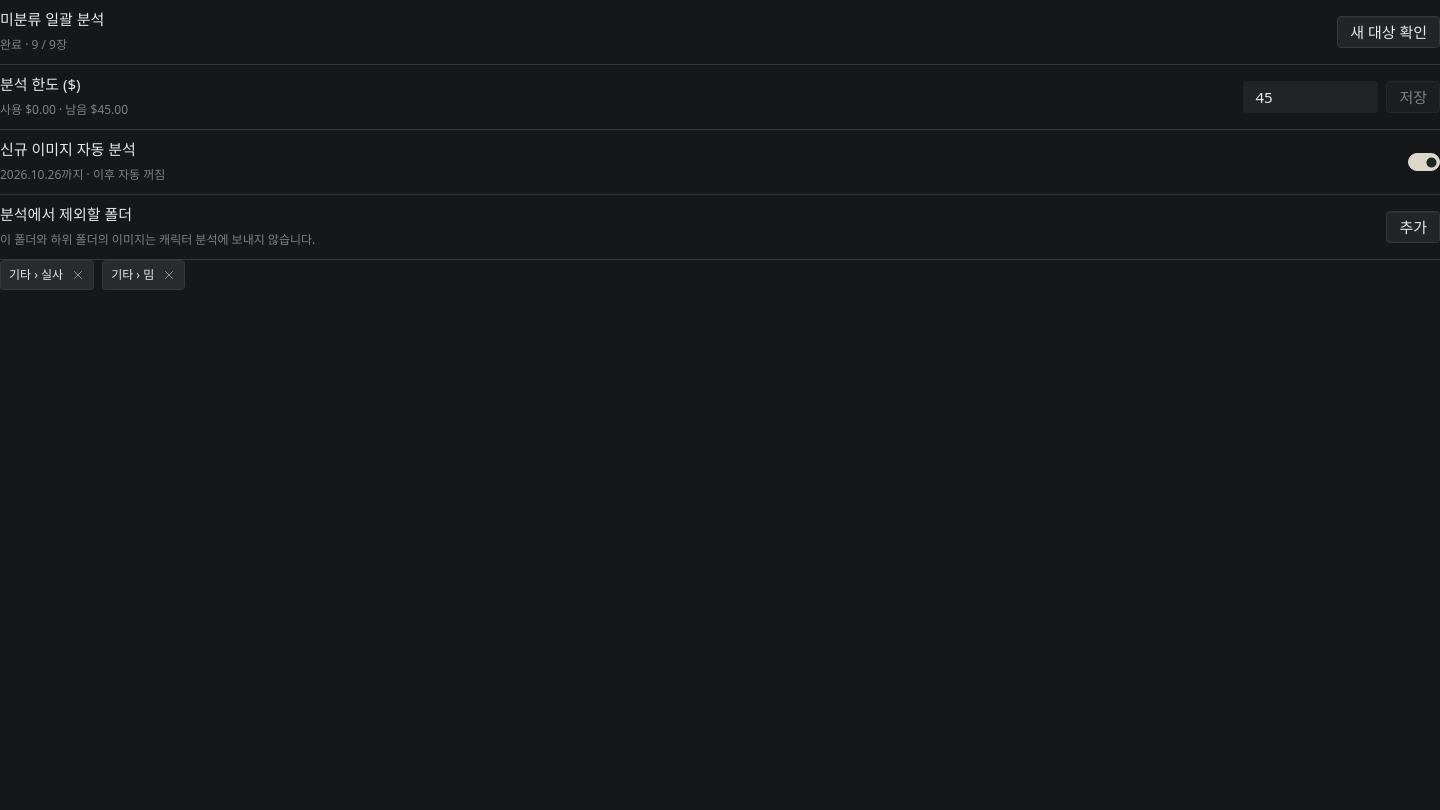
Test: offers another run after a finished one
Click the button "새 대상 확인" at (1389, 32), box [1337,16,1439,48]
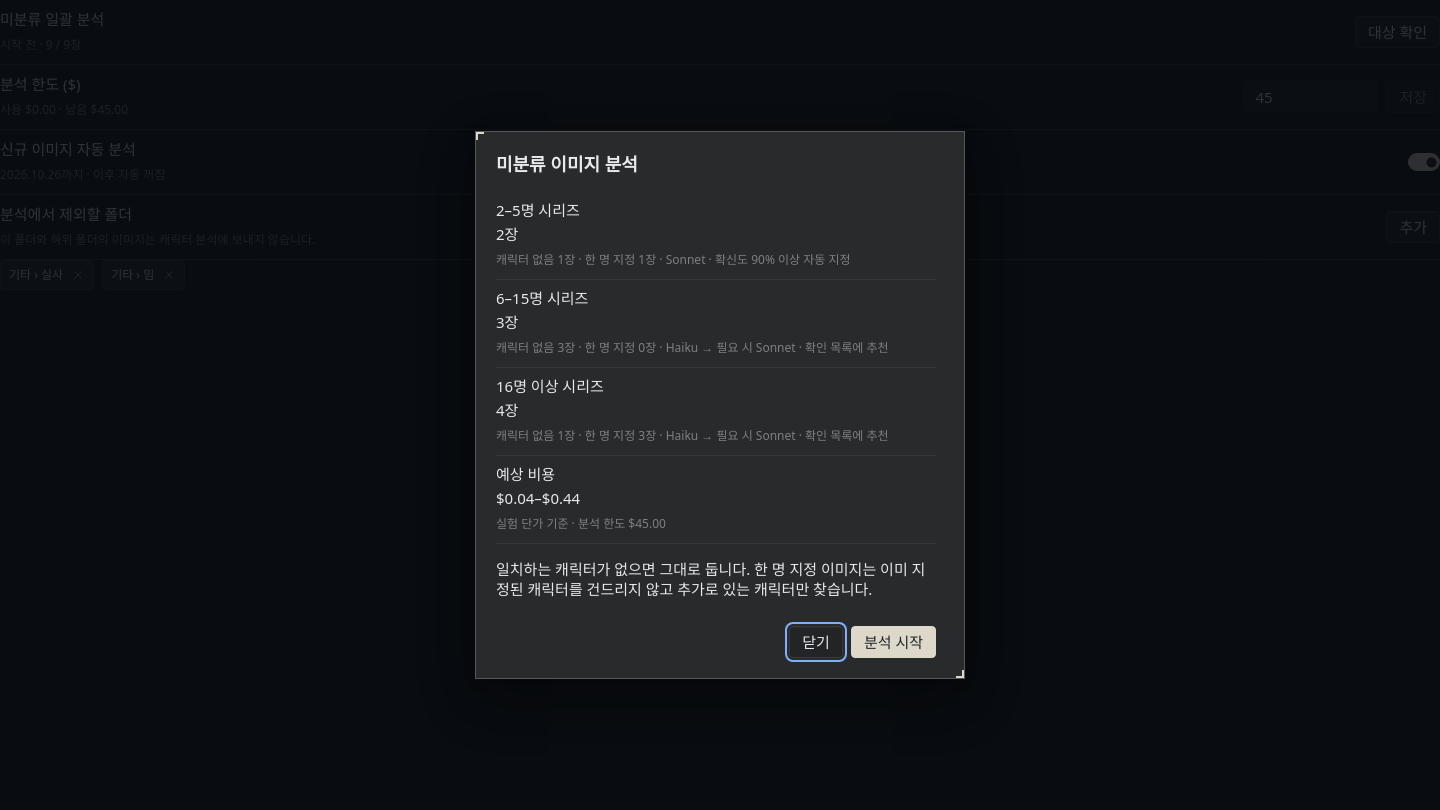
Expected: the dialog "미분류 이미지 분석" is shown, [475,131,965,679]
